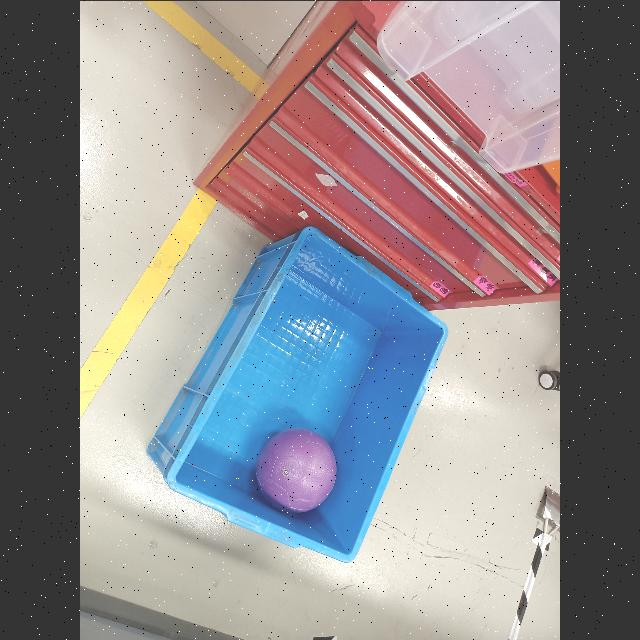P: (256, 428, 336, 510)
